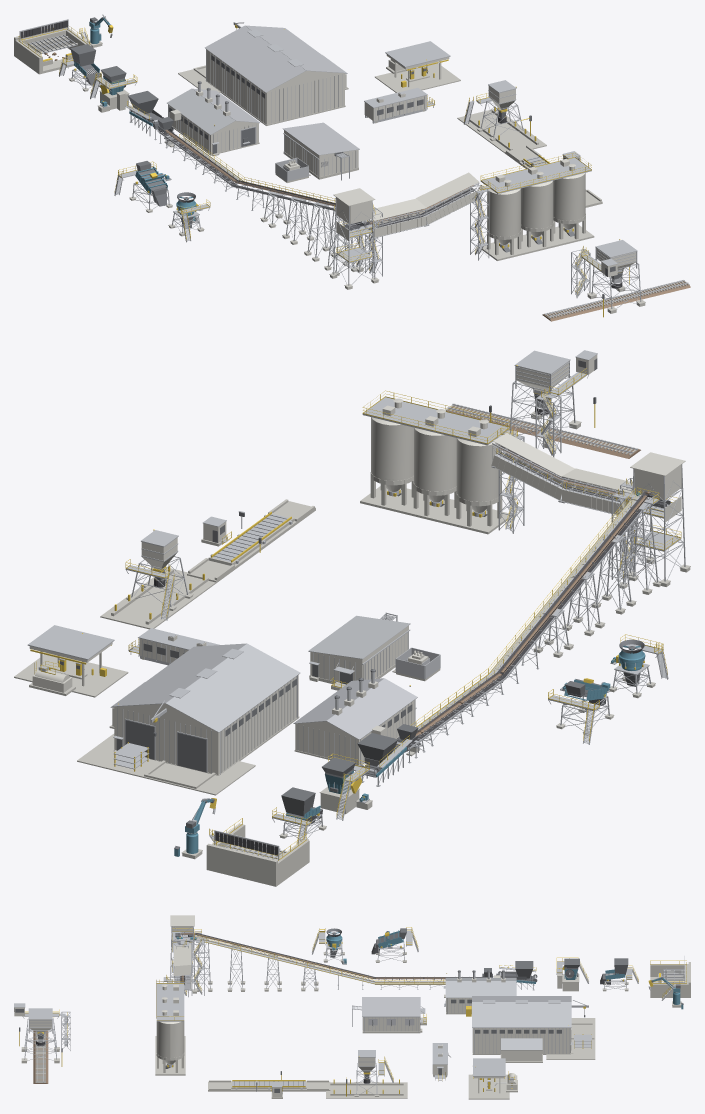
Rendered from ore-processing-and-haulage-plant-plant-o-5923954f-starter-scene.glb.
3 renders of one model, top to bottom at view 1: azimuth 30°, elevation 25°; view 2: azimuth 150°, elevation 25°; view 3: azimuth 270°, elevation 25°, orthographic. The views are drawn at different scales.
Parts seen in each view (by area): view 1: 019-maintenance-workshop/2, 014-silo-cluster/0, 019-maintenance-workshop/1, 015-rail-loadout-bin/2, 020-assay-laboratory/2, 018-electrical-mcc-building/2, 008-silo-feed-conveyor/0, 014-silo-cluster/2, 009-conveyor-transfer-tower/0, 017-truck-loadout/0, 000-dump-pocket/0, 020-assay-laboratory/0 (+25 smaller); view 2: 019-maintenance-workshop/2, 014-silo-cluster/0, 019-maintenance-workshop/1, 008-silo-feed-conveyor/0, 015-rail-loadout-bin/2, 020-assay-laboratory/2, 018-electrical-mcc-building/2, 014-silo-cluster/2, 019-maintenance-workshop/0, 000-dump-pocket/0, 017-truck-loadout/0, 020-assay-laboratory/0 (+28 smaller); view 3: 019-maintenance-workshop/2, 019-maintenance-workshop/1, 008-silo-feed-conveyor/0, 018-electrical-mcc-building/2, 014-silo-cluster/0, 020-assay-laboratory/2, 015-rail-loadout-bin/2, 017-truck-loadout/0, 019-maintenance-workshop/0, 000-dump-pocket/0, 014-silo-cluster/2, 016-weighbridge/0 (+25 smaller).
Boxes of the visible parts, left/top/right/bottom form: 019-maintenance-workshop/2: left=204, top=22, right=347, bottom=124; 014-silo-cluster/0: left=482, top=173, right=594, bottom=260; 019-maintenance-workshop/1: left=206, top=49, right=346, bottom=124; 015-rail-loadout-bin/2: left=545, top=240, right=688, bottom=317; 020-assay-laboratory/2: left=167, top=83, right=260, bottom=154; 018-electrical-mcc-building/2: left=275, top=122, right=359, bottom=181; 008-silo-feed-conveyor/0: left=231, top=183, right=369, bottom=272; 014-silo-cluster/2: left=470, top=157, right=591, bottom=260; 009-conveyor-transfer-tower/0: left=333, top=197, right=382, bottom=285; 017-truck-loadout/0: left=457, top=108, right=546, bottom=153; 000-dump-pocket/0: left=14, top=27, right=91, bottom=74; 020-assay-laboratory/0: left=168, top=90, right=258, bottom=154; 019-maintenance-workshop/2: left=110, top=643, right=300, bottom=774; 014-silo-cluster/0: left=360, top=417, right=511, bottom=534; 019-maintenance-workshop/1: left=112, top=657, right=298, bottom=774; 008-silo-feed-conveyor/0: left=488, top=488, right=659, bottom=683; 015-rail-loadout-bin/2: left=447, top=350, right=637, bottom=457; 020-assay-laboratory/2: left=293, top=672, right=417, bottom=765; 018-electrical-mcc-building/2: left=308, top=612, right=440, bottom=682; 014-silo-cluster/2: left=362, top=397, right=524, bottom=533; 019-maintenance-workshop/0: left=77, top=716, right=299, bottom=795; 000-dump-pocket/0: left=206, top=823, right=309, bottom=886; 017-truck-loadout/0: left=100, top=567, right=215, bottom=629; 020-assay-laboratory/0: left=295, top=681, right=415, bottom=765; 019-maintenance-workshop/2: left=472, top=996, right=591, bottom=1054; 019-maintenance-workshop/1: left=473, top=1028, right=570, bottom=1061; 008-silo-feed-conveyor/0: left=191, top=933, right=374, bottom=995; 018-electrical-mcc-building/2: left=352, top=997, right=425, bottom=1032; 014-silo-cluster/0: left=155, top=1021, right=185, bottom=1075; 020-assay-laboratory/2: left=443, top=972, right=516, bottom=1013; 015-rail-loadout-bin/2: left=14, top=1003, right=70, bottom=1082; 017-truck-loadout/0: left=326, top=1082, right=407, bottom=1098; 019-maintenance-workshop/0: left=472, top=1018, right=595, bottom=1062; 000-dump-pocket/0: left=650, top=962, right=690, bottom=997; 014-silo-cluster/2: left=156, top=977, right=184, bottom=1067; 016-weighbridge/0: left=208, top=1080, right=330, bottom=1098.
Bounding box in the file's own units: 86.64 × 18.1 × 166.
